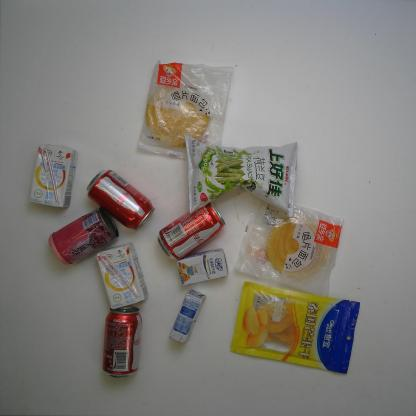Canned Food: (47, 209, 122, 267)
Dessert: (235, 196, 343, 297), (136, 57, 233, 164)
Dried Fruit: (228, 280, 360, 374)
Drink: (85, 168, 156, 230), (157, 203, 226, 260), (100, 306, 144, 378)
Milk: (96, 244, 149, 310), (30, 142, 77, 207), (174, 247, 228, 286), (168, 290, 206, 344)
Puffed Food: (184, 132, 298, 218)
